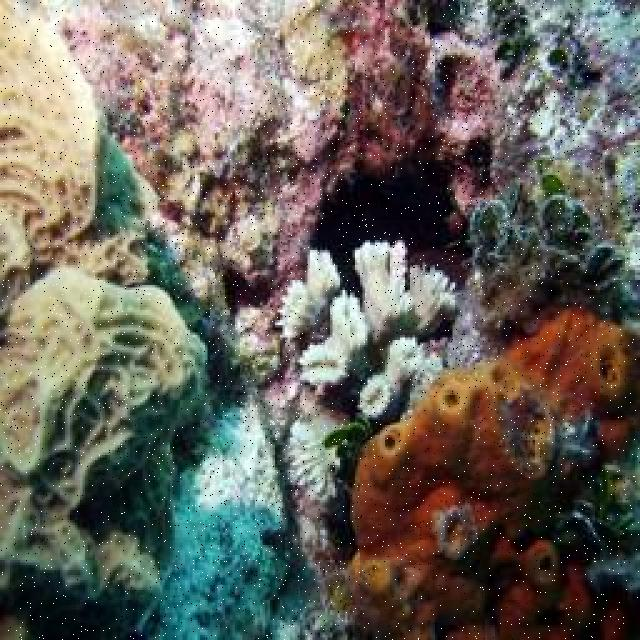aquatic plants: (472, 153, 624, 327)
reefs: (0, 2, 210, 638), (348, 303, 638, 638), (280, 238, 458, 429)
